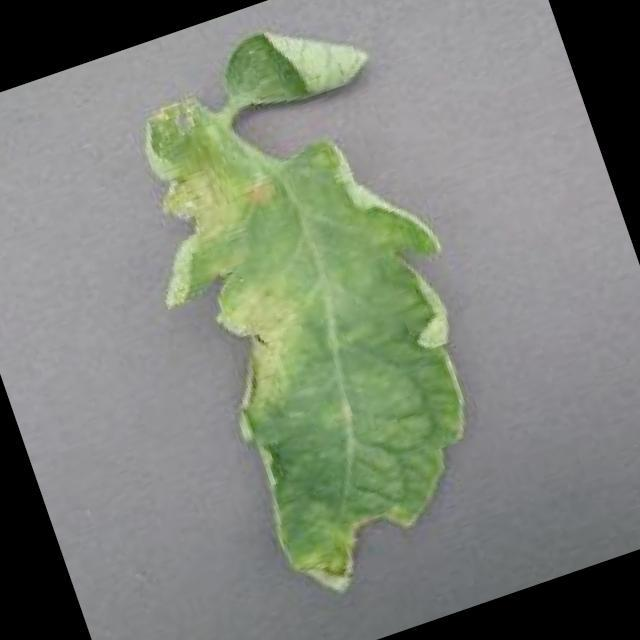Tomato late blight leaf: (100, 33, 538, 616)
